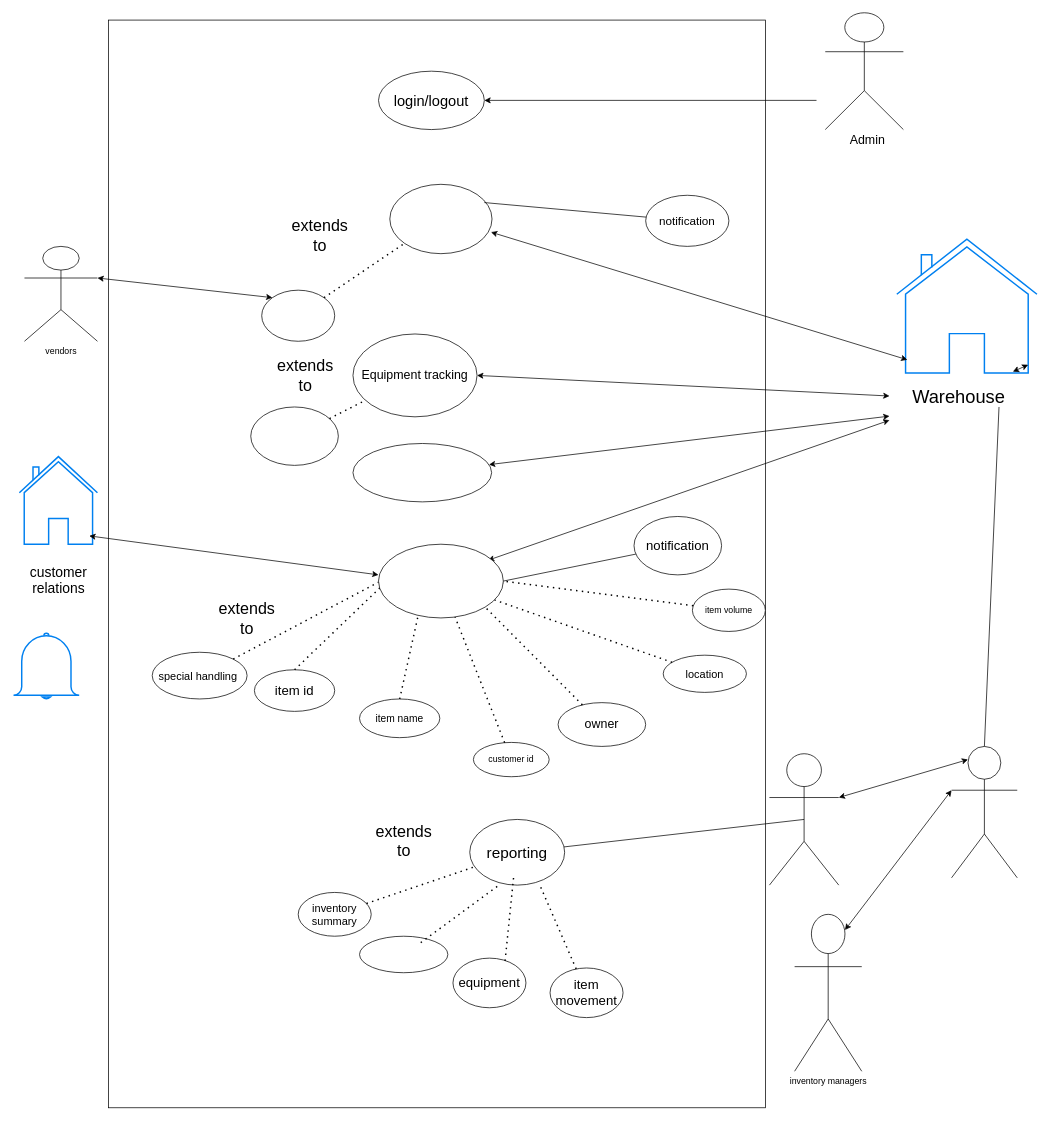
Some shapes in this 1050 by 1121 pixel diagram are drawn without their labels. Here are the shapes that lost their labels. From the top down, the centre of each, then its label:
At point (864, 71): "Actor".
At point (440, 219): "vendor tracking".
At point (298, 315): "Contact person".
At point (294, 435): "Equipment id".
At point (422, 472): "Asset tracking".
At point (440, 580): "item tracking".
At point (804, 819): "managers".
At point (984, 812): "warehouse managers".
At point (403, 954): "assets".
